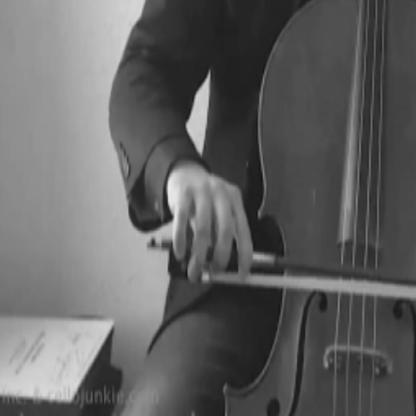good: (158, 157, 260, 298)
